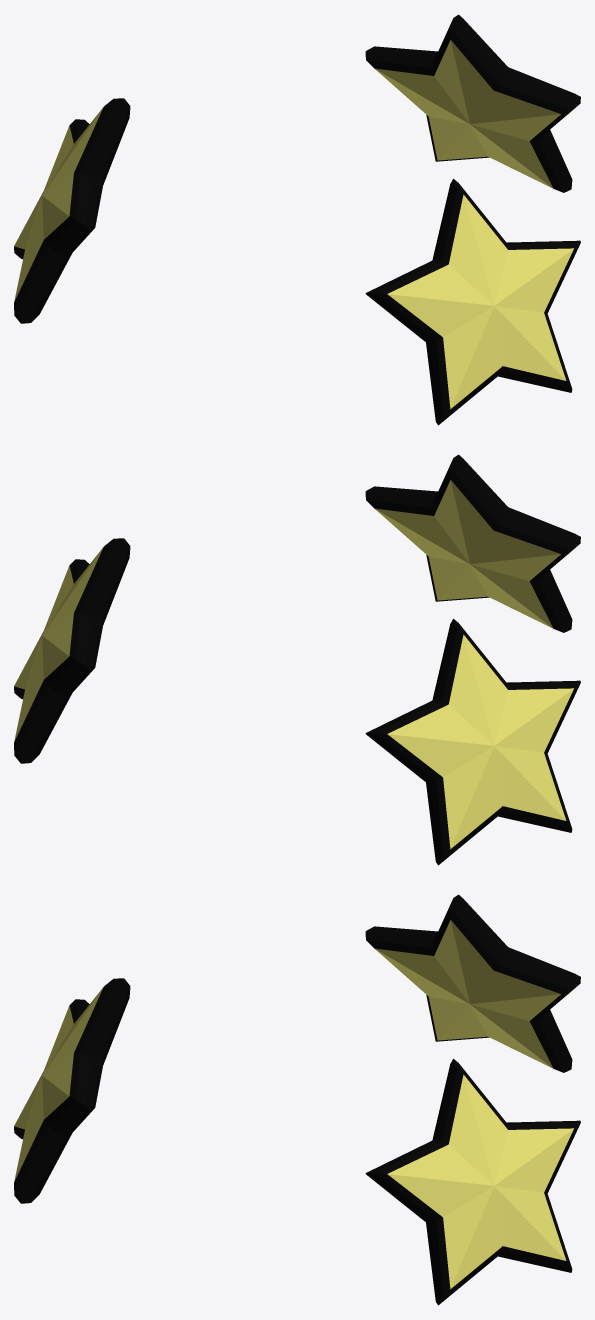
Rendered from star.glb.
3 renders of one model, top to bottom at view 1: azimuth 30°, elevation 25°; view 2: azimuth 150°, elevation 25°; view 3: azimuth 270°, elevation 25°, orthographic.
Visible parts, largest first — view 1: Star; view 2: Star; view 3: Star.
Boxes of the visible parts, x1,y1,x2,y2 form: Star: (14,14,580,425); Star: (14,454,580,865); Star: (14,894,580,1305).
Size of the model in its own units: 0.2246 by 0.0744 by 0.1977.
